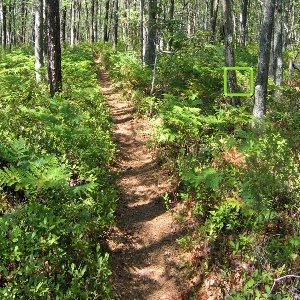square: (221, 65, 255, 99)
